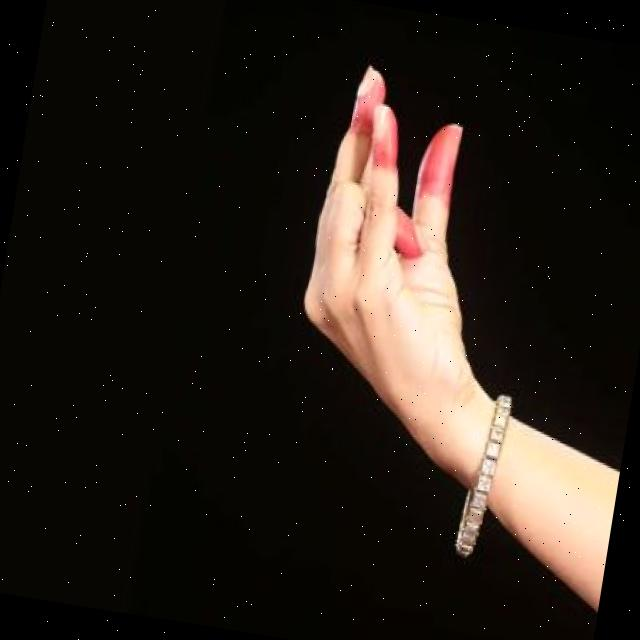Kangula: (243, 21, 521, 526)
